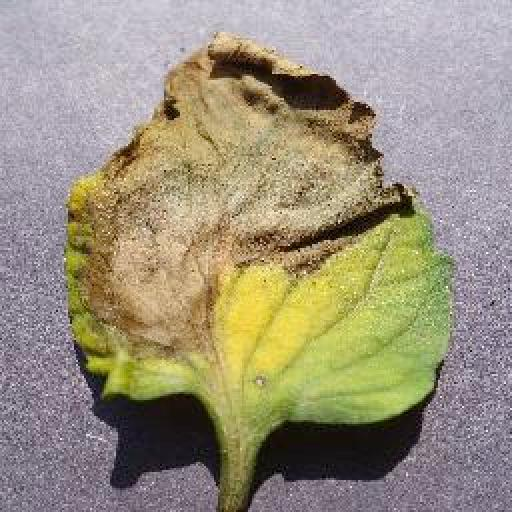disease_tomato: (66, 29, 458, 427)
